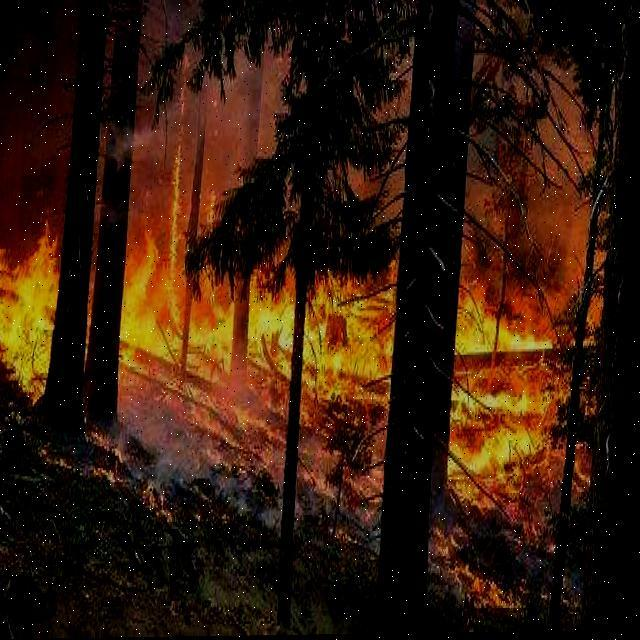Fire: (117, 168, 408, 478), (452, 278, 562, 496), (0, 198, 73, 402)
